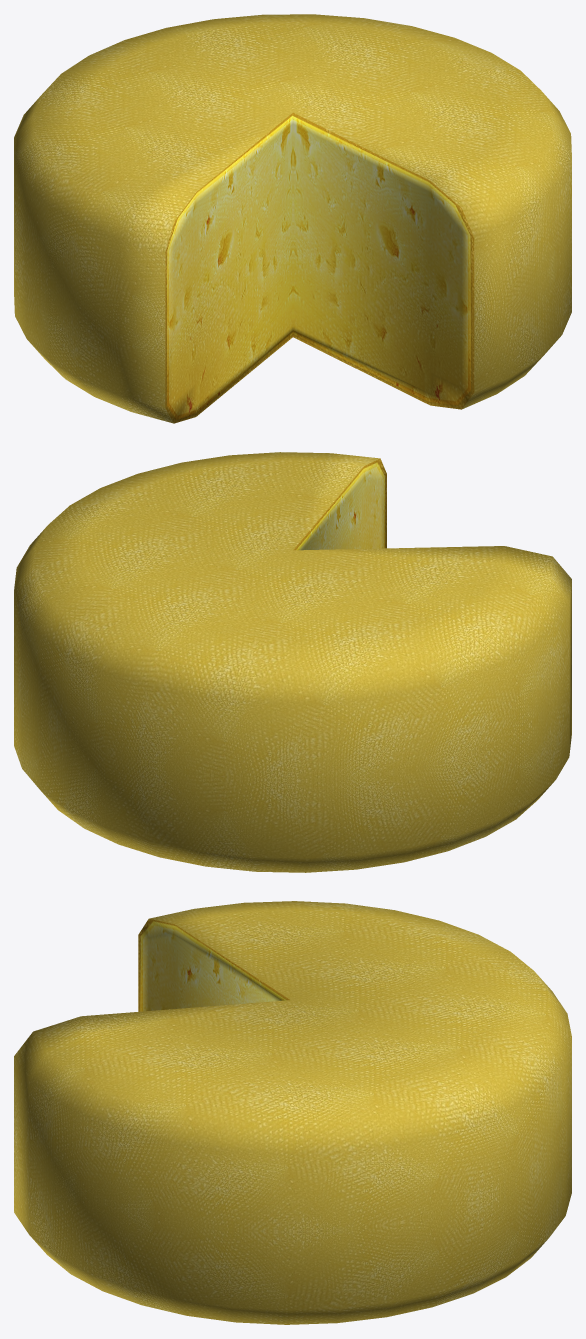
The model's file is food-cheese.glb.
3 views of the same model, one above another, from view 1: azimuth 30°, elevation 25°; view 2: azimuth 150°, elevation 25°; view 3: azimuth 270°, elevation 25° (orthographic).
Visible parts, largest first — view 1: food-cheese; view 2: food-cheese; view 3: food-cheese.
Part boxes in pixels (x1,y1,x2,y2): food-cheese: [14, 14, 571, 423]; food-cheese: [14, 452, 571, 872]; food-cheese: [14, 901, 571, 1324].
Size of the model in its own units: 0.2976 by 0.1318 by 0.2952.
1 material, 1 textured.
